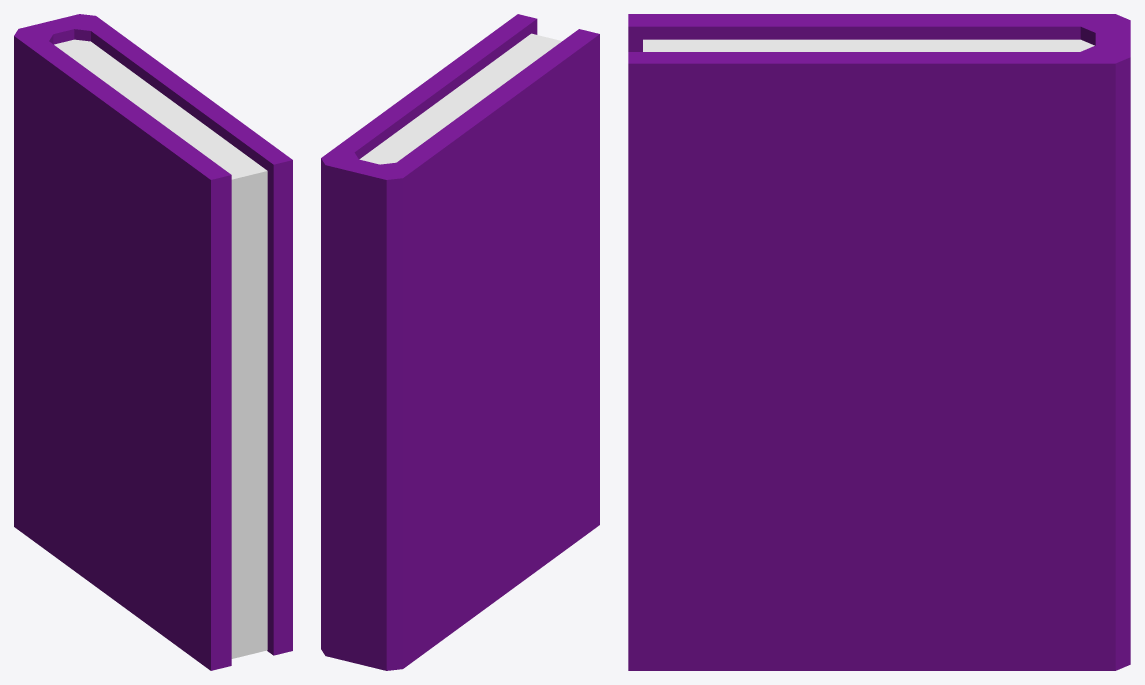
Rendered from Libro10.fbx.
3 views of the same model, side by side, from view 1: azimuth 30°, elevation 25°; view 2: azimuth 150°, elevation 25°; view 3: azimuth 270°, elevation 25° (orthographic). The views are drawn at different scales.
Visible parts, largest first — view 1: Libro10; view 2: Libro10; view 3: Libro10.
Boxes of the visible parts, x1,y1,x2,y2 form: Libro10: [14, 14, 292, 670]; Libro10: [321, 14, 599, 670]; Libro10: [628, 14, 1130, 670].
Size of the model in its own units: 0.0328 by 0.1876 by 0.1405.
